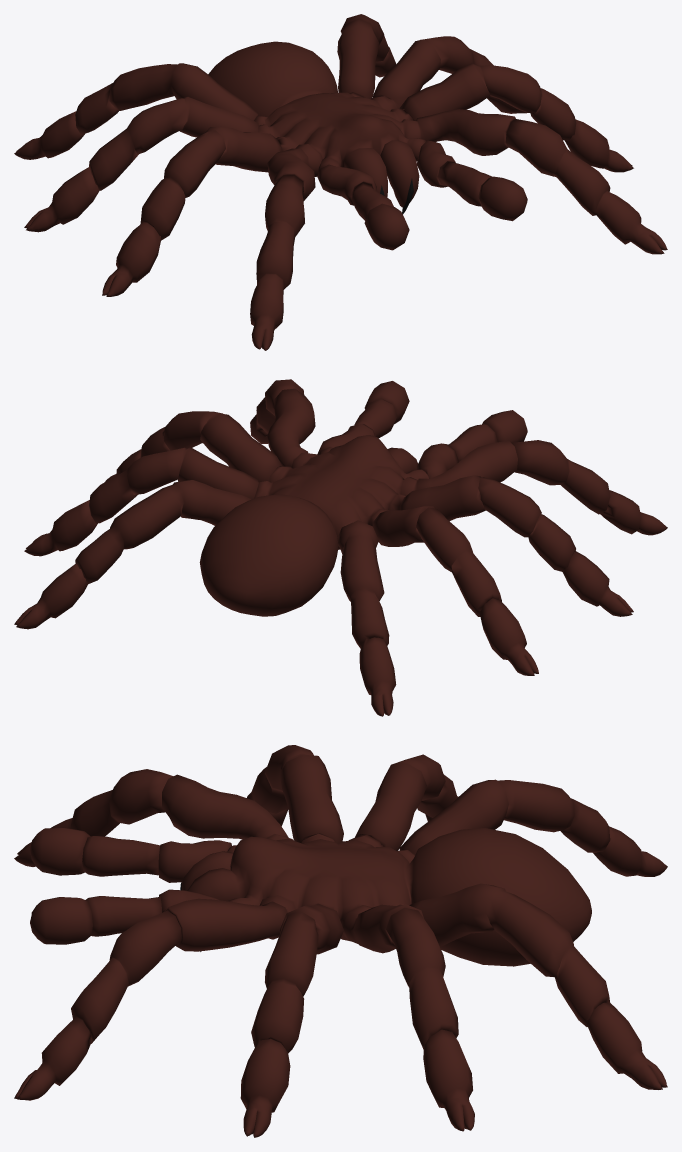
Rendered from tarantula_tarantula.obj.
3 renders of one model, top to bottom at view 1: azimuth 30°, elevation 25°; view 2: azimuth 150°, elevation 25°; view 3: azimuth 270°, elevation 25°, orthographic. The views are drawn at different scales.
Size of the model in its own units: 0.2037 by 0.0451 by 0.1765.
